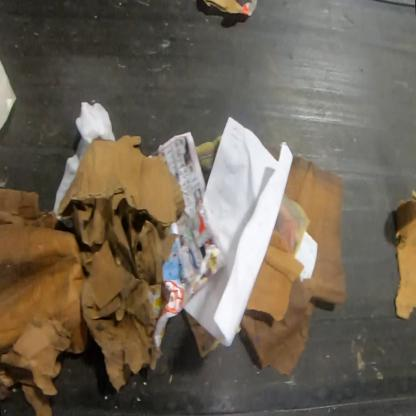cardboard: (56, 134, 185, 392), (0, 187, 92, 415), (284, 156, 347, 306), (246, 228, 304, 323), (392, 187, 415, 322), (183, 308, 222, 360), (0, 58, 18, 134), (202, 0, 258, 17), (266, 144, 280, 160), (236, 324, 242, 334)
soft_plastic: (53, 100, 116, 216)
